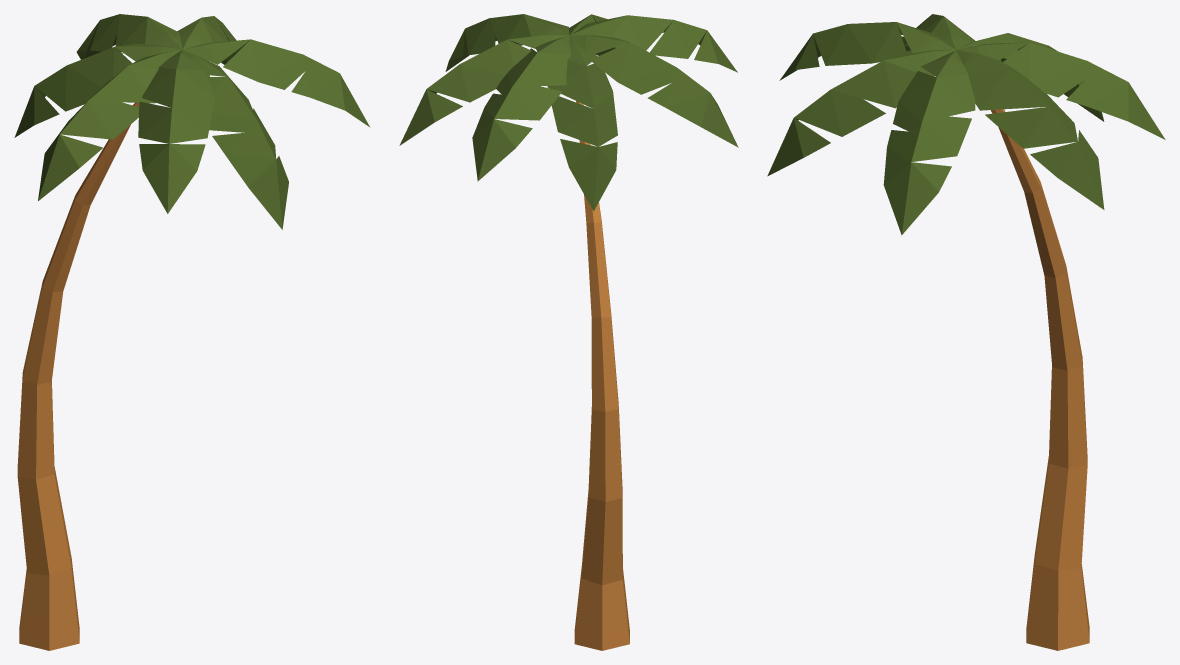
The model's file is palm_tree_3.fbx.
3 renders of one model, left to right at view 1: azimuth 30°, elevation 25°; view 2: azimuth 150°, elevation 25°; view 3: azimuth 270°, elevation 25°, orthographic. The views are drawn at different scales.
Parts seen in each view (by area): view 1: G-Object.002, C-Palm Tree Leaf#7.002, C-Palm Tree Leaf#6.003, C-Palm Tree Leaf#6.001, C-Palm Tree Leaf#6, C-Palm Tree Leaf#7, C-Palm Tree Leaf#6.002, C-Palm Tree Leaf#7.001; view 2: G-Object.002, C-Palm Tree Leaf#7, C-Palm Tree Leaf#6.002, C-Palm Tree Leaf#6.001, C-Palm Tree Leaf#7.001, C-Palm Tree Leaf#7.002, C-Palm Tree Leaf#6; view 3: G-Object.002, C-Palm Tree Leaf#6, C-Palm Tree Leaf#7.001, C-Palm Tree Leaf#6.003, C-Palm Tree Leaf#6.002, C-Palm Tree Leaf#7.002, C-Palm Tree Leaf#6.001, C-Palm Tree Leaf#7.
Boxes of the visible parts, x1,y1,x2,y2 form: G-Object.002: [17, 102, 139, 650]; C-Palm Tree Leaf#7.002: [138, 49, 214, 213]; C-Palm Tree Leaf#6.003: [180, 50, 288, 229]; C-Palm Tree Leaf#6.001: [38, 49, 181, 200]; C-Palm Tree Leaf#6: [183, 39, 370, 127]; C-Palm Tree Leaf#7: [14, 43, 182, 137]; C-Palm Tree Leaf#6.002: [76, 14, 182, 59]; C-Palm Tree Leaf#7.001: [177, 16, 237, 64]; G-Object.002: [574, 101, 629, 650]; C-Palm Tree Leaf#7: [547, 36, 617, 210]; C-Palm Tree Leaf#6.002: [472, 35, 570, 181]; C-Palm Tree Leaf#6.001: [570, 35, 738, 147]; C-Palm Tree Leaf#7.001: [399, 35, 569, 145]; C-Palm Tree Leaf#7.002: [570, 15, 737, 72]; C-Palm Tree Leaf#6: [445, 14, 569, 71]; G-Object.002: [990, 109, 1089, 650]; C-Palm Tree Leaf#6: [883, 50, 975, 235]; C-Palm Tree Leaf#7.001: [956, 50, 1104, 209]; C-Palm Tree Leaf#6.003: [767, 50, 955, 176]; C-Palm Tree Leaf#6.002: [957, 42, 1165, 139]; C-Palm Tree Leaf#7.002: [779, 22, 955, 80]; C-Palm Tree Leaf#6.001: [902, 14, 975, 51]; C-Palm Tree Leaf#7: [957, 33, 1104, 121].
Bounding box in the file's own units: 483 × 864 × 489.
